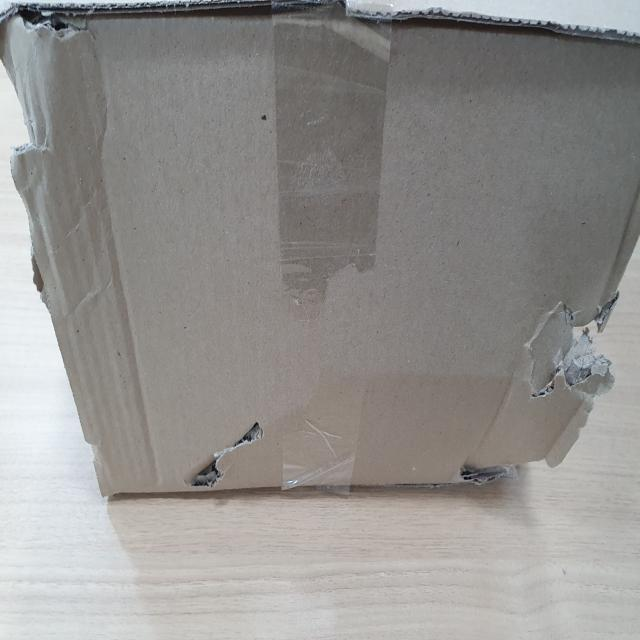hole: (542, 302, 610, 416), (182, 419, 264, 487)
